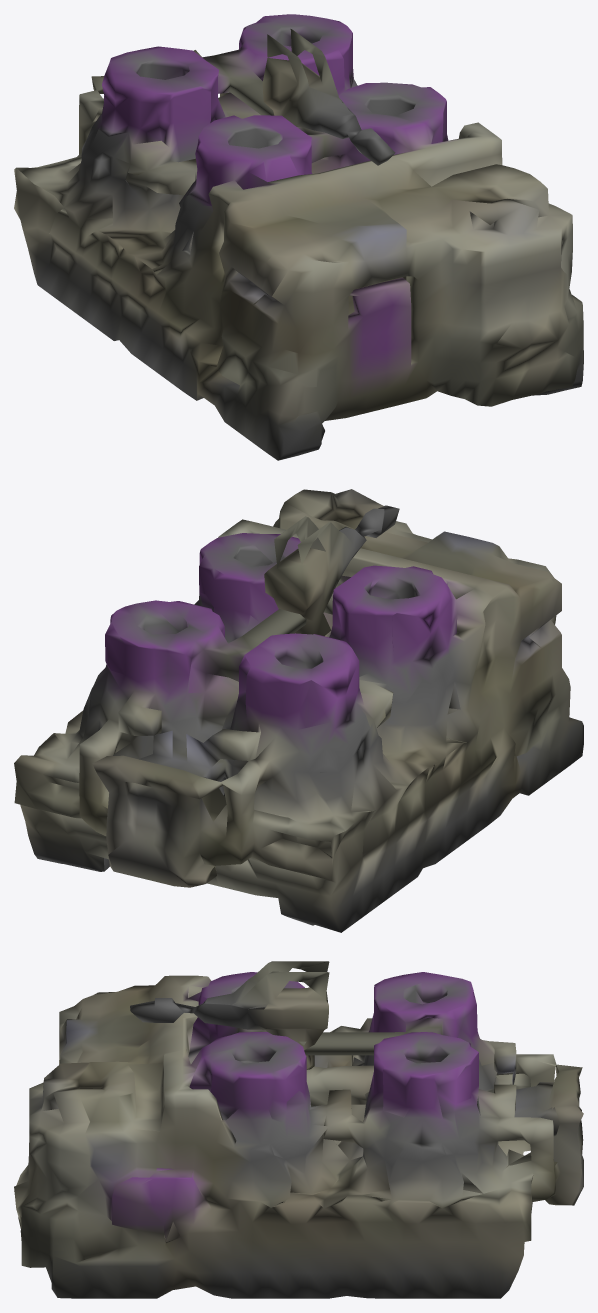
File: yuri_slave_miner.glb
3 renders of one model, top to bottom at view 1: azimuth 30°, elevation 25°; view 2: azimuth 150°, elevation 25°; view 3: azimuth 270°, elevation 25°, orthographic. The views are drawn at different scales.
Visible parts, largest first — view 1: Hull, Turret; view 2: Hull, Turret; view 3: Hull, Turret.
Part boxes in pixels (box(x1,y1,x2,y2)): Hull: box(14, 14, 583, 460); Turret: box(262, 29, 395, 165); Hull: box(14, 489, 583, 932); Turret: box(264, 505, 399, 636); Hull: box(14, 972, 583, 1298); Turret: box(130, 961, 329, 1069).
Size of what is drawn, in the model's own units: 3.72 by 3.21 by 6.3.
